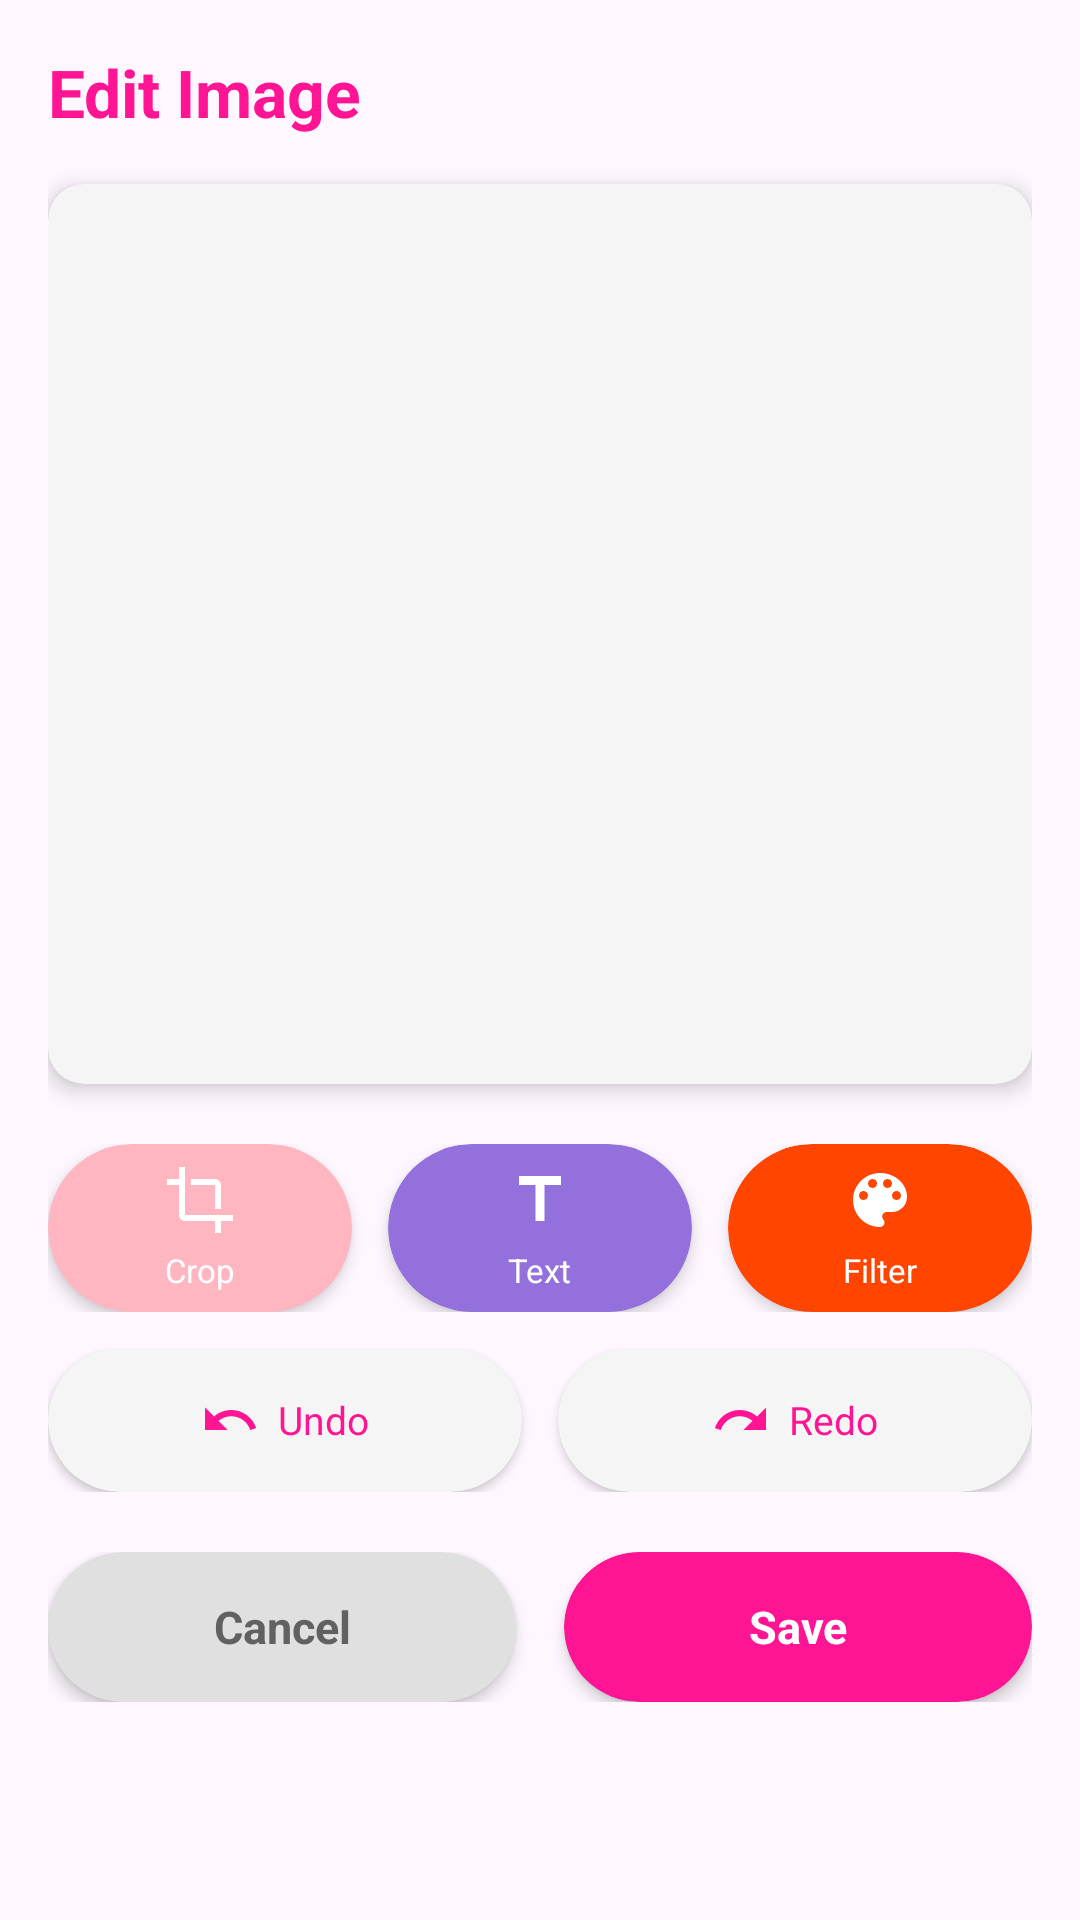

Screen size 1080w x 1920h. Icon name, then its box in pixels as [x1, y1, x2, y2]:
palette: [853, 1173, 907, 1227]
